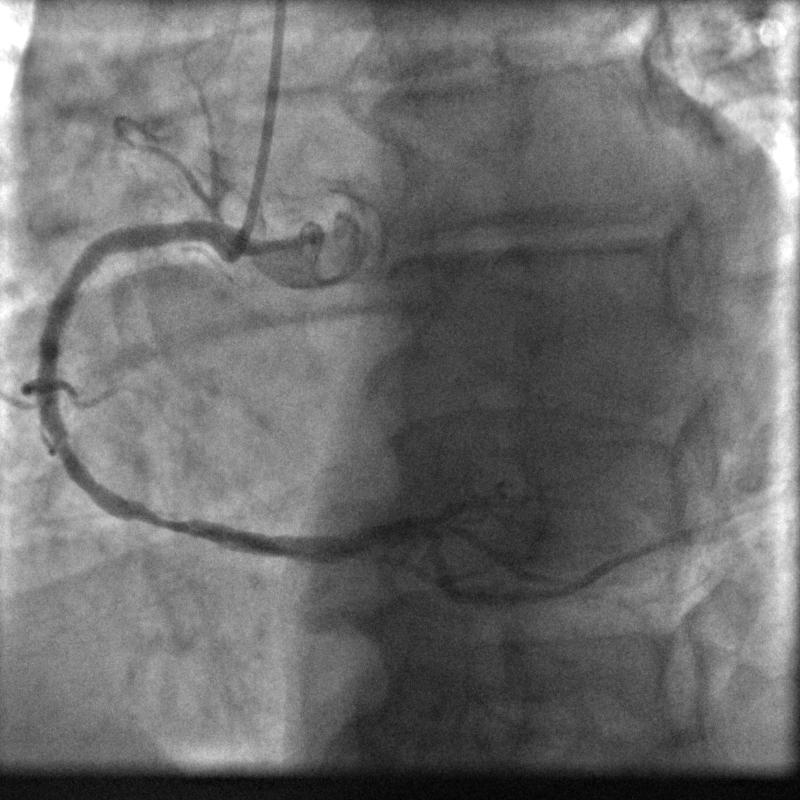Stenosis: (120, 494, 197, 538)
